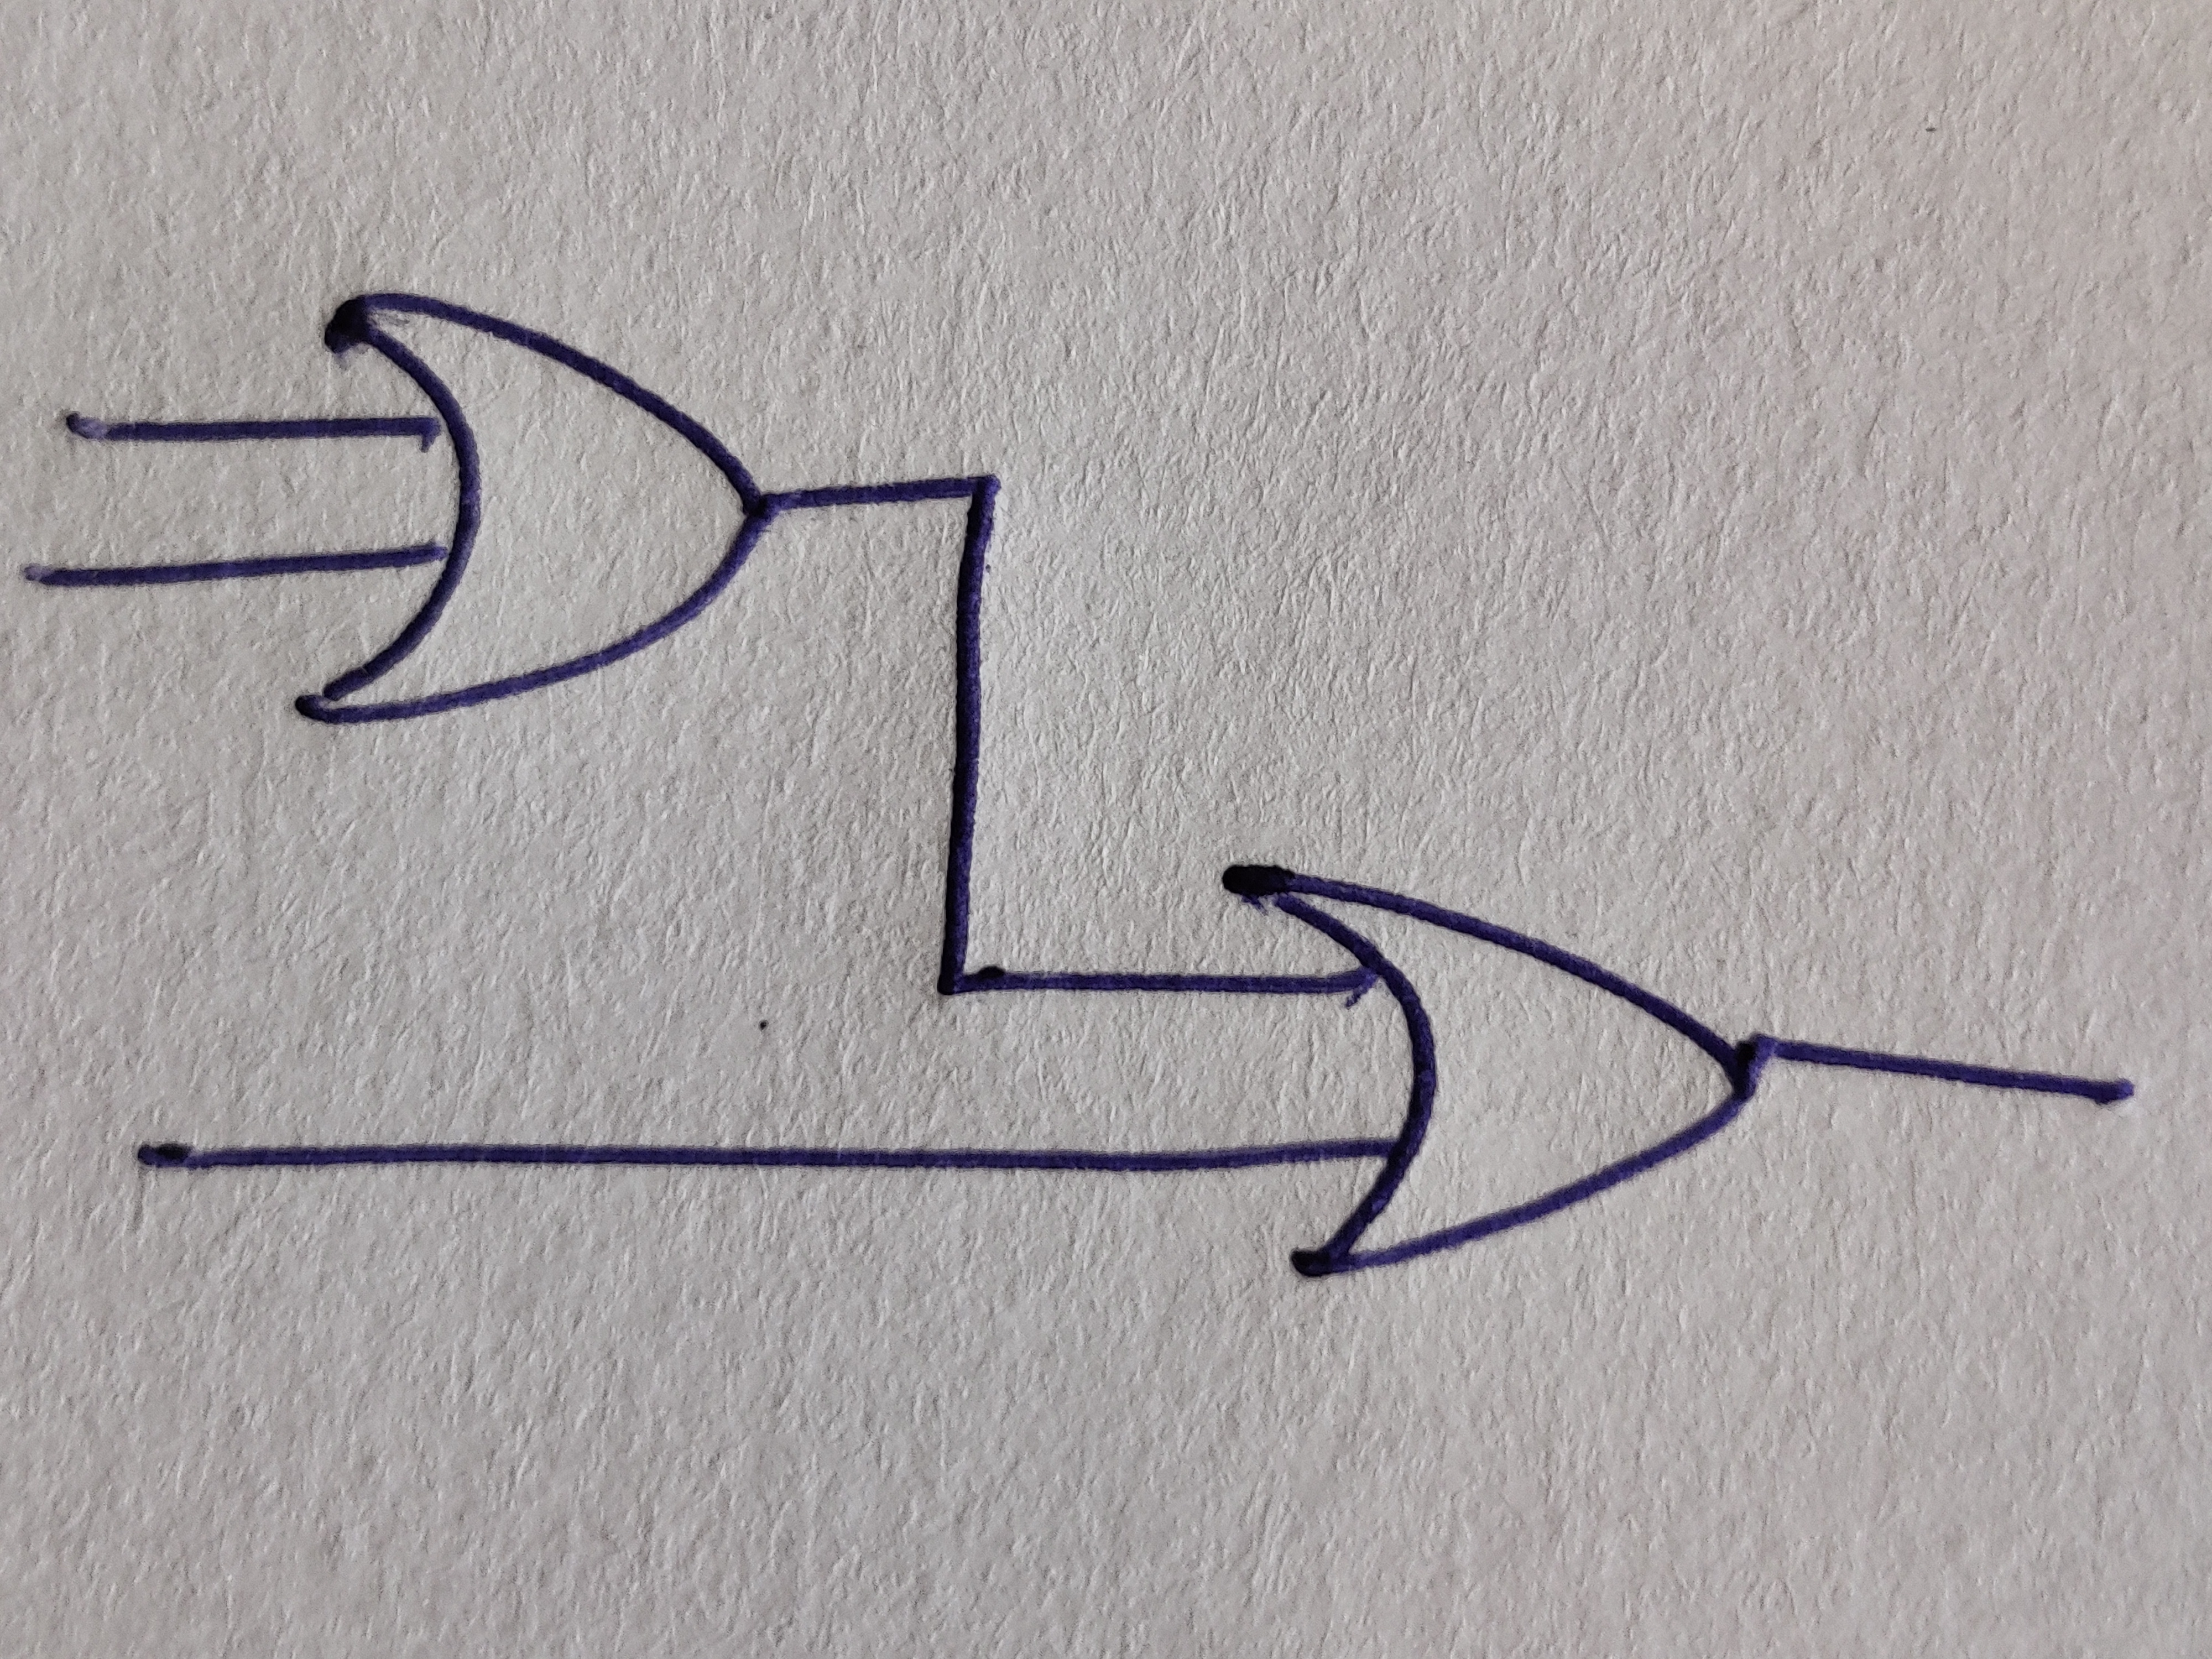or: (1219, 864, 1756, 1277), (294, 296, 770, 723)
